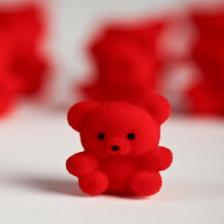red: (66, 94, 173, 196)
